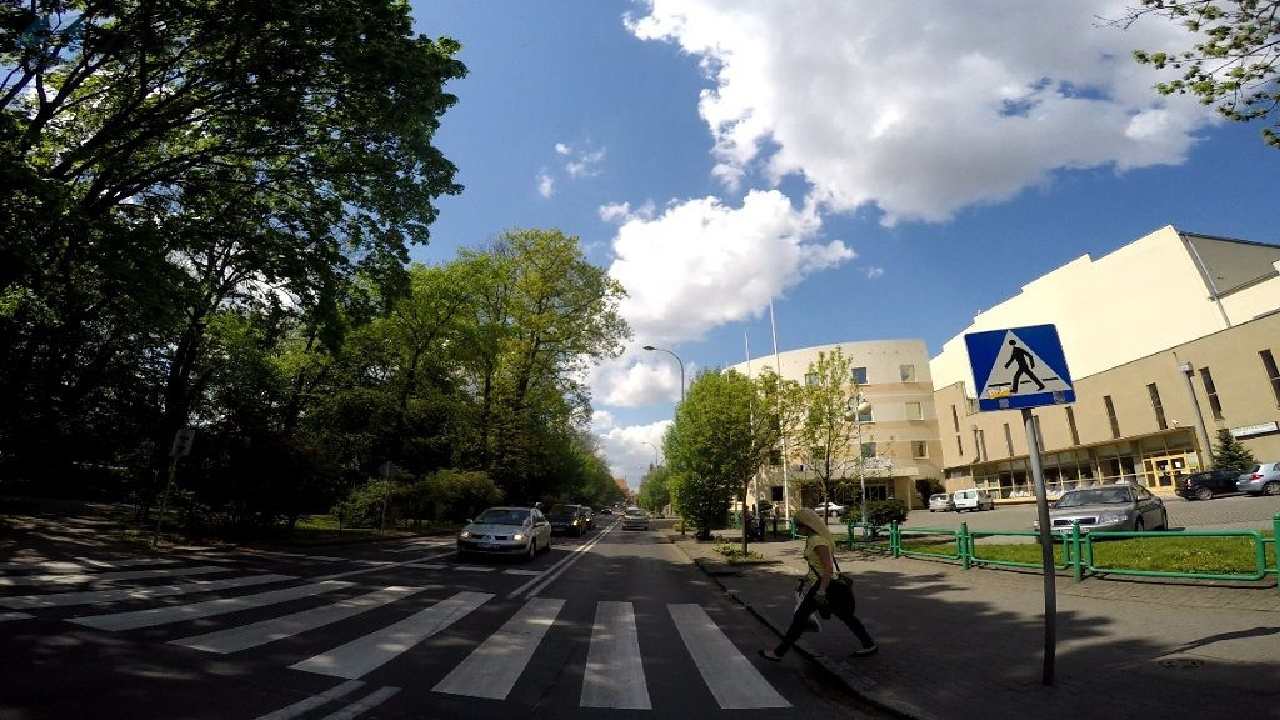D6: (965, 324, 1077, 406)
